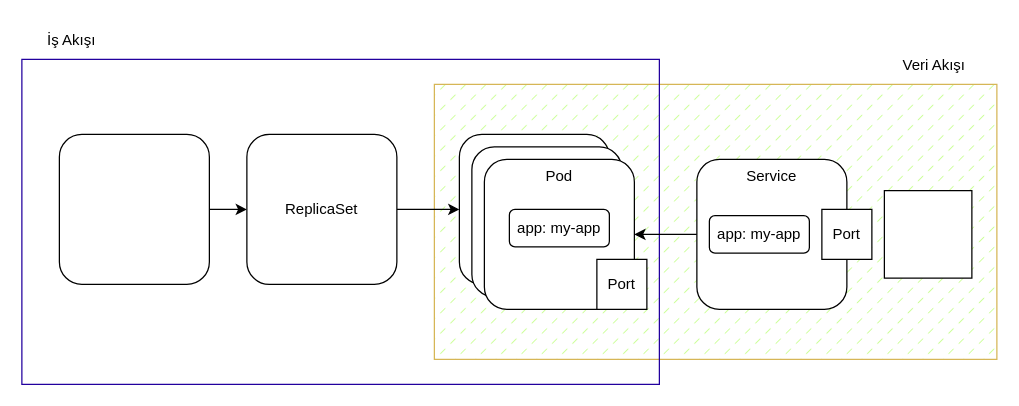
Some shapes in this 1019 by 406 pixel diagram are drawn without their labels. Here are the shapes that lost their labels. From the top down, the centre of each, then its label:
At (x=133, y=208): "Deployment".
At (x=927, y=233): "NodePort".
